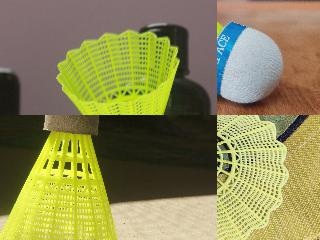shuttlecock: (0, 115, 122, 239), (55, 30, 179, 114), (217, 115, 289, 239), (217, 0, 283, 103)
